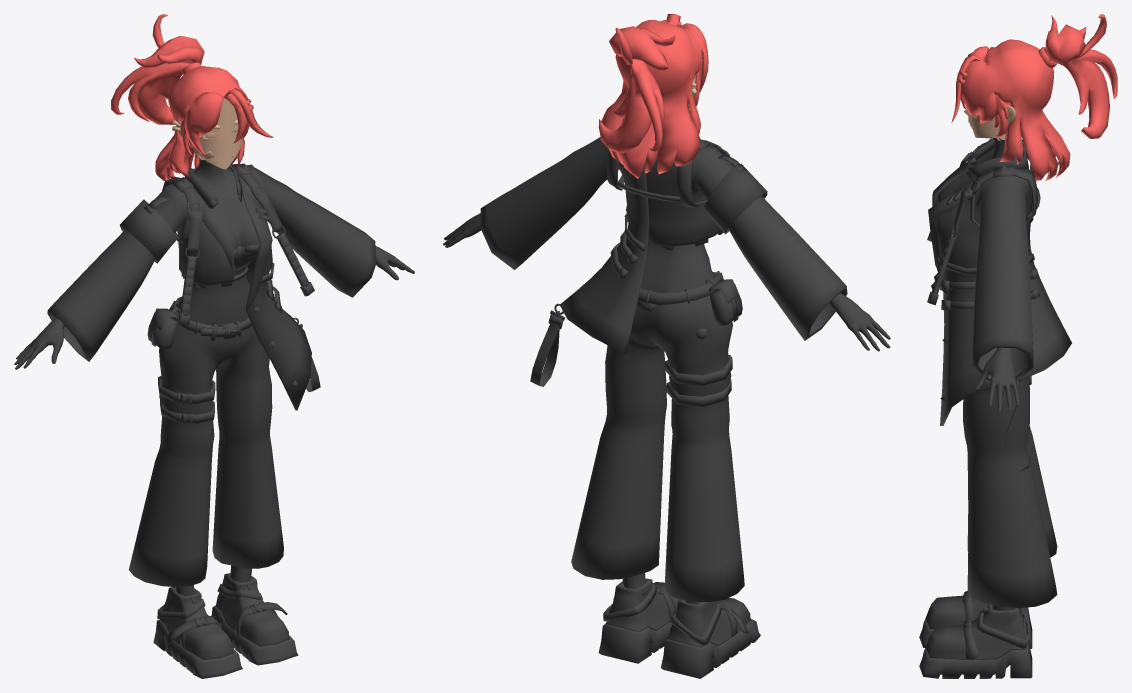
File: chr02_full_v04.fbx
3 views of the same model, side by side, from view 1: azimuth 30°, elevation 25°; view 2: azimuth 150°, elevation 25°; view 3: azimuth 270°, elevation 25° (orthographic). The views are drawn at different scales.
Parts seen in each view (by area): view 1: body01_parts002, body01_parts007, body01_parts004, body01_parts000, hair_mid, body01_parts006, hair_back, body01_parts005, body01_parts003, face, body02_parts004, body02_parts021 (+6 smaller); view 2: body01_parts002, body01_parts007, body01_parts004, hair_mid, hair_back, body01_parts000, body01_parts005, body01_parts006, body01_parts003, body02_parts038, body02_parts049, body02_parts020 (+4 smaller); view 3: body01_parts007, body01_parts002, hair_mid, hair_back, body01_parts006, body01_parts005, body01_parts000, body02_parts001, body02_parts020, body02_parts004, body02_parts038, face (+3 smaller).
Boxes of the visible parts, x1,y1,x2,y2 form: body01_parts002: [129, 302, 283, 587]; body01_parts007: [237, 164, 375, 410]; body01_parts004: [47, 184, 234, 361]; body01_parts000: [14, 159, 414, 596]; hair_mid: [155, 66, 273, 181]; body01_parts006: [159, 573, 289, 659]; hair_back: [111, 14, 204, 124]; body01_parts005: [153, 606, 298, 678]; body01_parts003: [120, 199, 177, 263]; face: [192, 98, 243, 169]; body02_parts004: [242, 188, 272, 309]; body02_parts021: [187, 196, 282, 252]; body01_parts002: [571, 295, 744, 601]; body01_parts007: [480, 137, 649, 353]; body01_parts004: [646, 146, 847, 340]; hair_mid: [600, 14, 708, 178]; hair_back: [598, 26, 675, 153]; body01_parts000: [443, 213, 890, 604]; body01_parts005: [598, 619, 760, 678]; body01_parts006: [605, 578, 751, 647]; body01_parts003: [704, 163, 767, 234]; body02_parts038: [603, 583, 721, 645]; body02_parts049: [530, 313, 562, 386]; body02_parts020: [607, 140, 724, 207]; body01_parts007: [937, 168, 1071, 425]; body01_parts002: [963, 377, 1057, 607]; hair_mid: [951, 39, 1070, 180]; hair_back: [1045, 14, 1117, 138]; body01_parts006: [925, 595, 1025, 659]; body01_parts005: [919, 607, 1032, 678]; body01_parts000: [938, 138, 1023, 412]; body02_parts001: [968, 139, 1027, 179]; body02_parts020: [969, 139, 1037, 228]; body02_parts004: [928, 184, 969, 267]; body02_parts038: [976, 606, 1030, 648]; face: [964, 105, 1006, 137].
Bounding box in the file's own units: 115 × 164 × 46.32.
